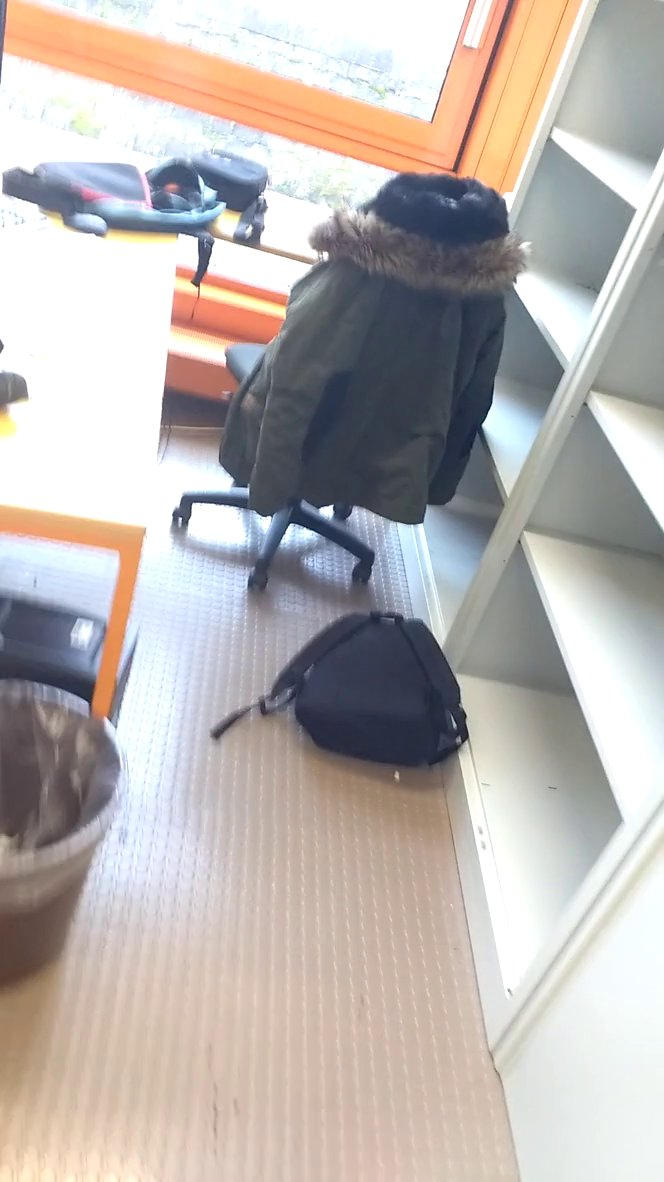bag: (209, 602, 482, 776)
bin: (1, 664, 155, 1007)
